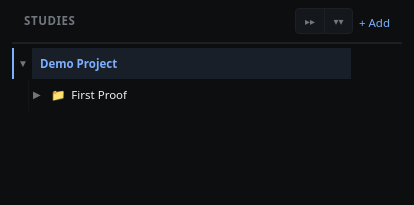
Test: StudyList file tree › lets users expand a single folder without expanding the whole tree
Check: the text "Demo Project" is shown, box [40,56,117,71]
Click the button "▶ 📁 First Proof" at (99, 95), box [29,83,402,107]
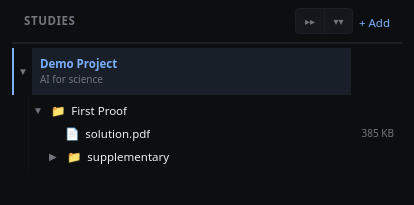
Check: the text "appendix.tex" is not shown
Check: the text "solution.pdf" is shown, box [85,126,150,141]
Check: the text "supplementary" is shown, box [87,149,169,165]
Click the button "▶ 📁 supplementary" at (128, 157), box [29,145,402,169]
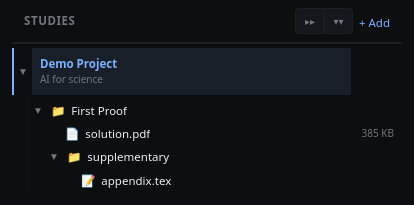
Check: the text "appendix.tex" is shown, box [101,173,171,188]
